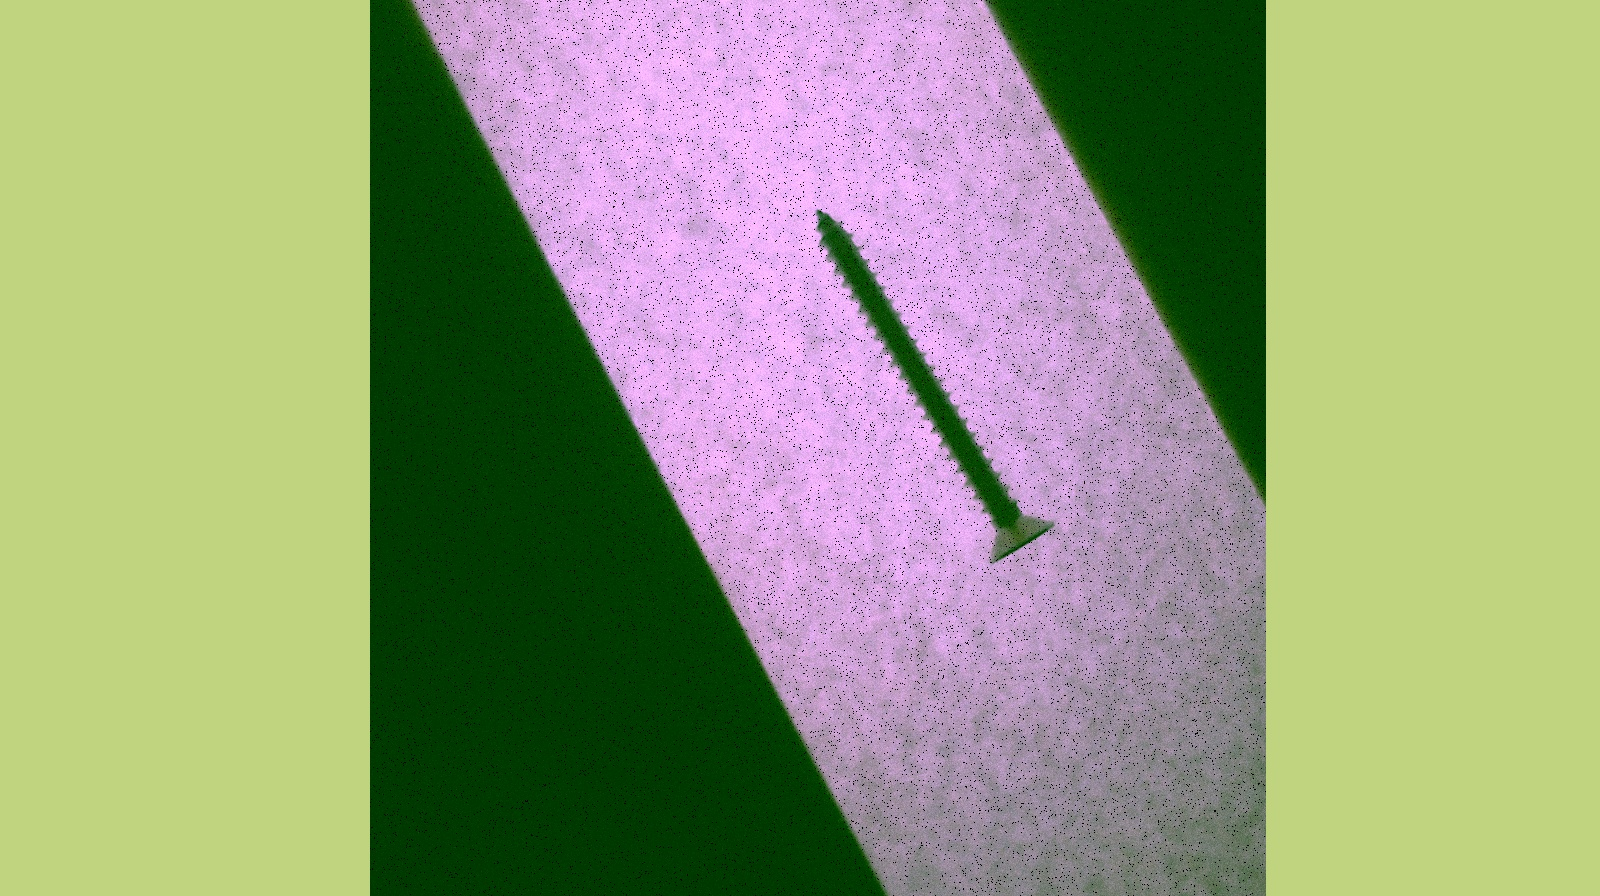S002: (798, 199, 1077, 578)
